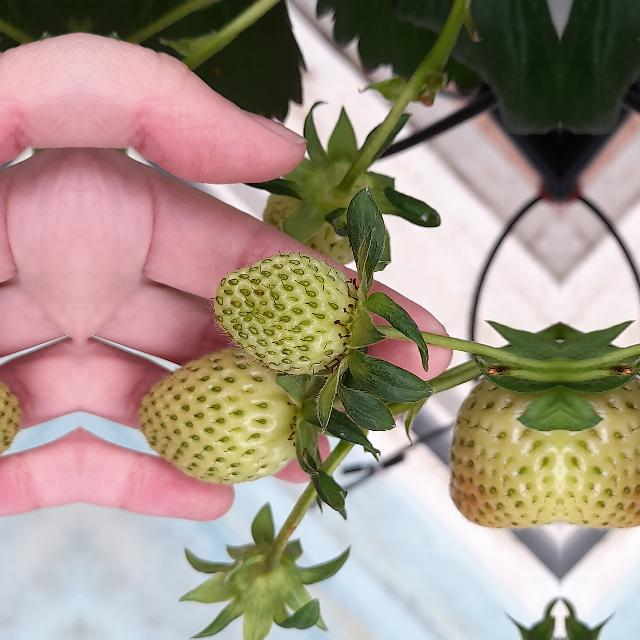Health_25: (446, 337, 560, 523), (136, 356, 298, 480), (213, 252, 357, 374), (560, 337, 640, 523)
